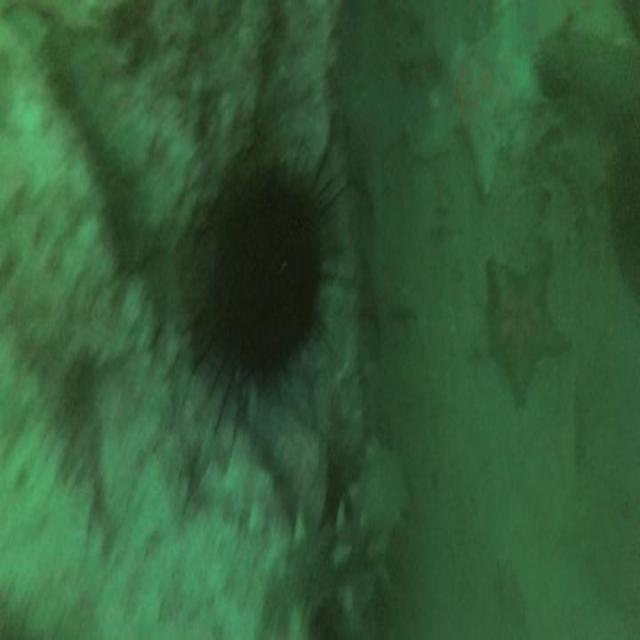echinus: (177, 122, 370, 447)
holothurian: (255, 491, 395, 640)
starfish: (416, 14, 545, 194), (476, 245, 574, 404)
